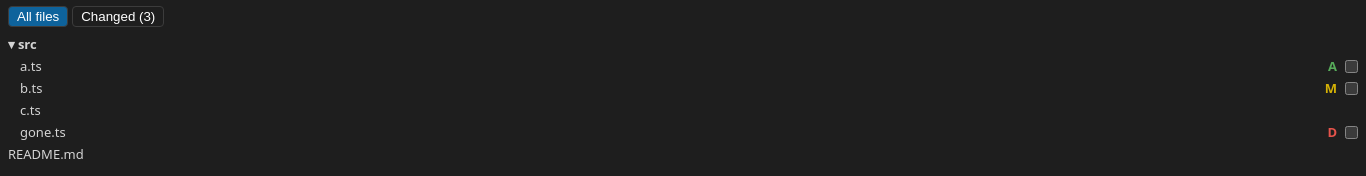
Test: FileTree › clicking a collapsed folder expands it again
Click the text "src". click: (22, 44)
box: [8, 35, 37, 53]
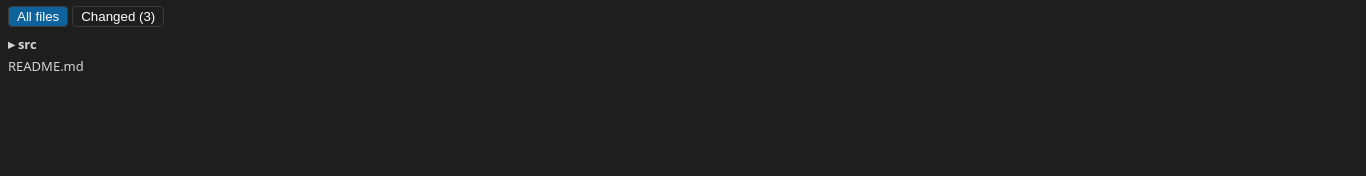
Click the text "src". click: (22, 44)
box: [8, 35, 37, 53]
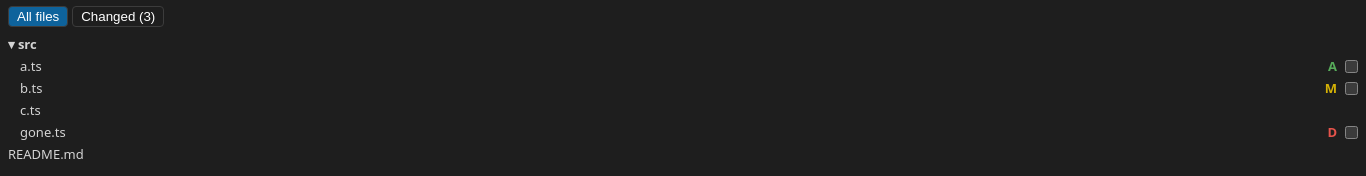
Now the text "a.ts" is shown, box [20, 57, 42, 75]
